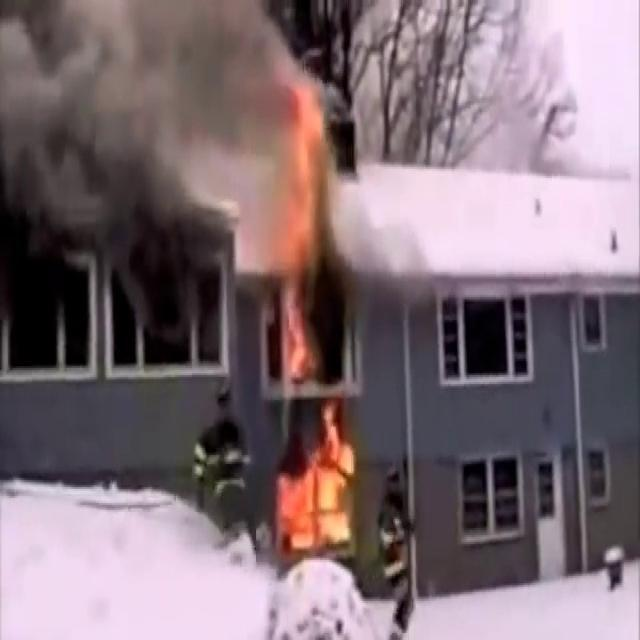Fire: (266, 84, 338, 386), (273, 389, 365, 567)
Smoke: (0, 1, 321, 374)
